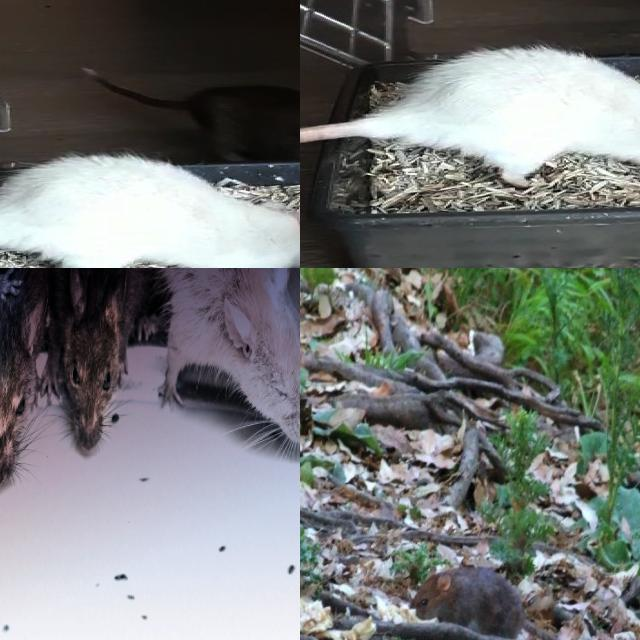rat: (382, 45, 640, 181), (0, 152, 300, 268), (156, 268, 300, 445), (55, 268, 139, 447), (187, 83, 300, 200), (411, 563, 523, 640)
